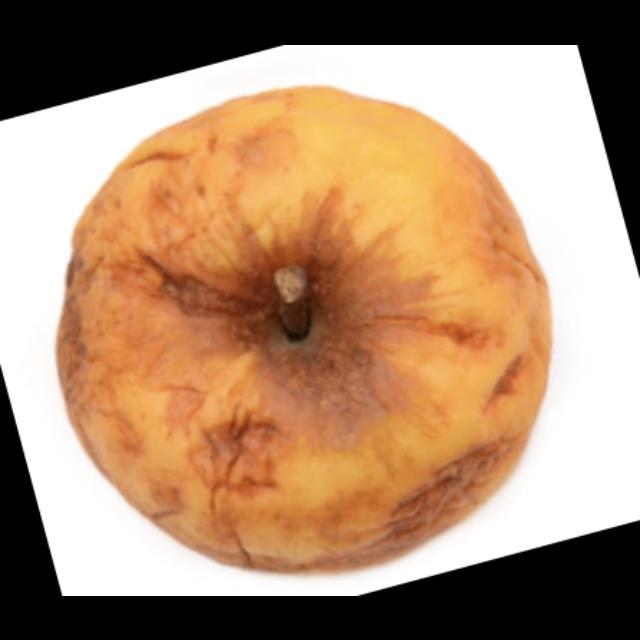Apel Tidak Segar: (12, 61, 610, 583)
